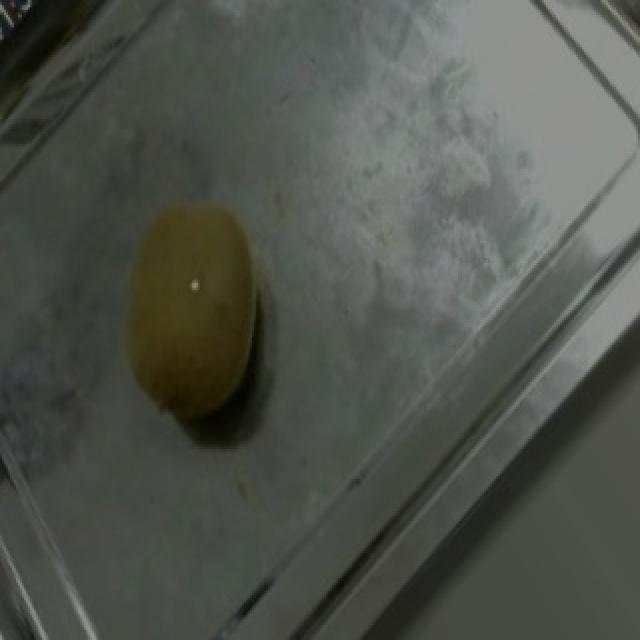Fruit: (80, 164, 304, 461)
